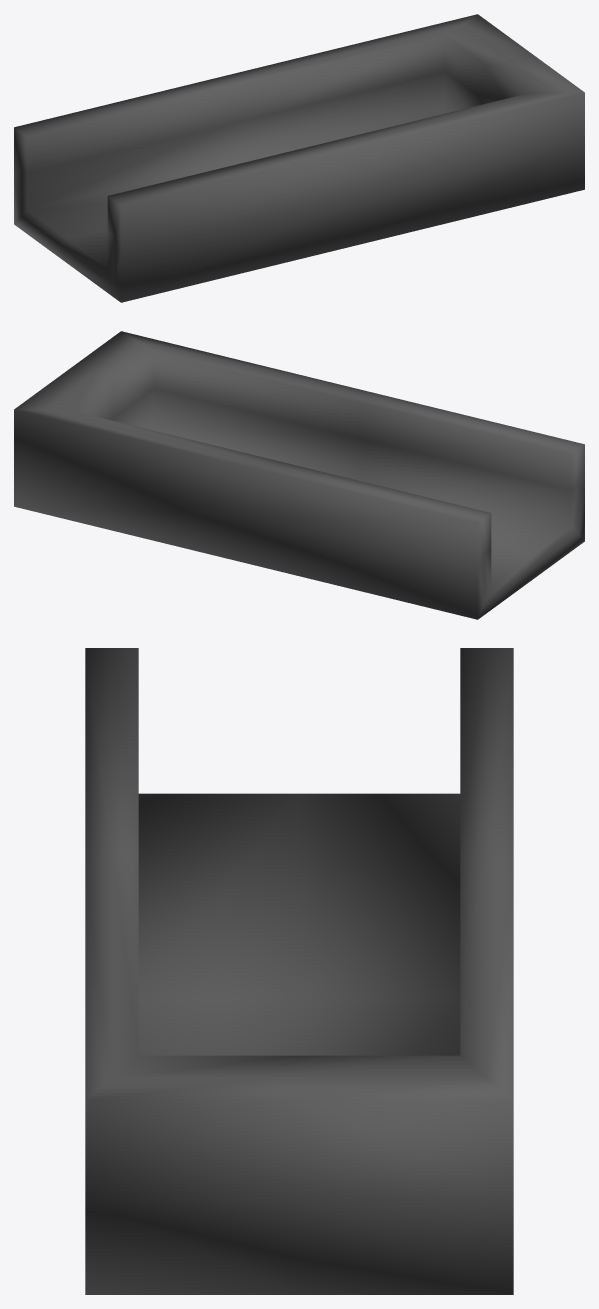
3 views of the same model, one above another, from view 1: azimuth 30°, elevation 25°; view 2: azimuth 150°, elevation 25°; view 3: azimuth 270°, elevation 25° (orthographic). The views are drawn at different scales.
Parts seen in each view (by area): view 1: defaultobject; view 2: defaultobject; view 3: defaultobject.
Part boxes in pixels (left/top/right/bottom): defaultobject: left=14, top=14, right=584, bottom=302; defaultobject: left=14, top=331, right=584, bottom=619; defaultobject: left=85, top=648, right=513, bottom=1294.
Bounding box in the file's own units: 0.625 × 0.125 × 0.25.
Materials: 1 (1 with a texture image).
